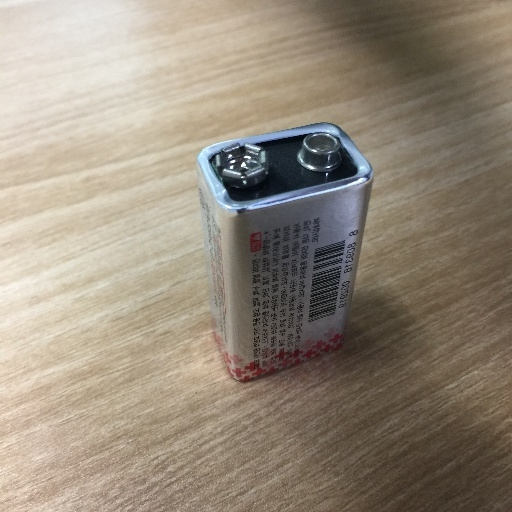Battery_3: (183, 104, 378, 389)
